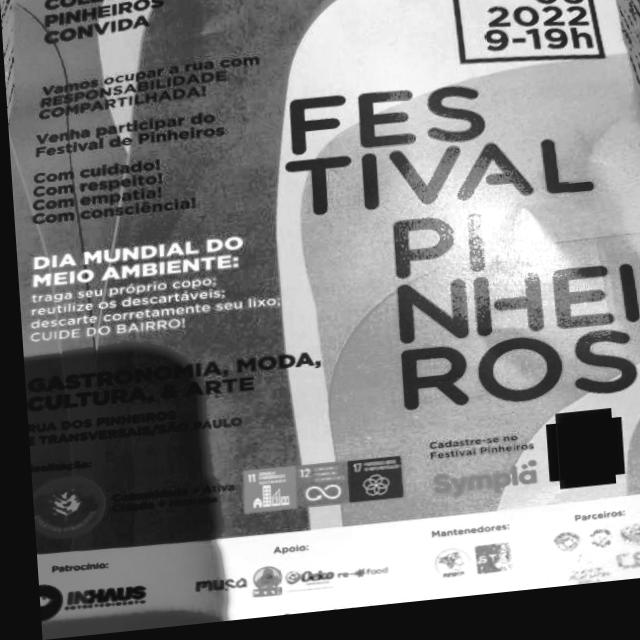qr_code: (544, 425, 613, 498)
